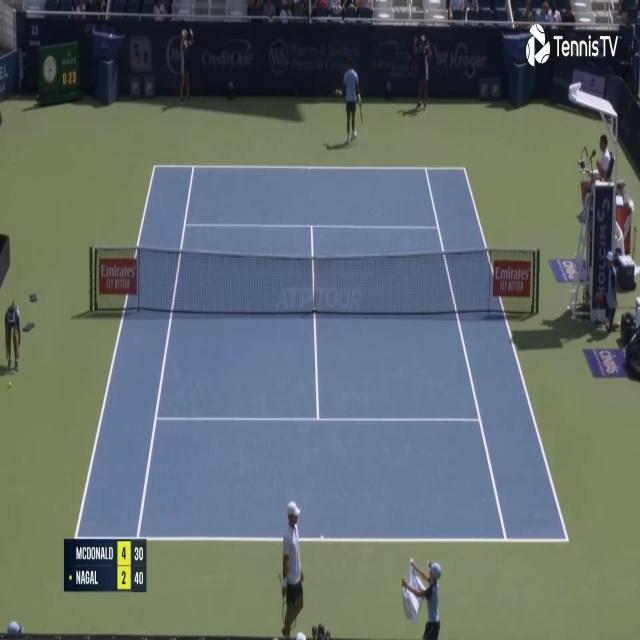tennis-player: (277, 498, 305, 637), (333, 53, 364, 147)
